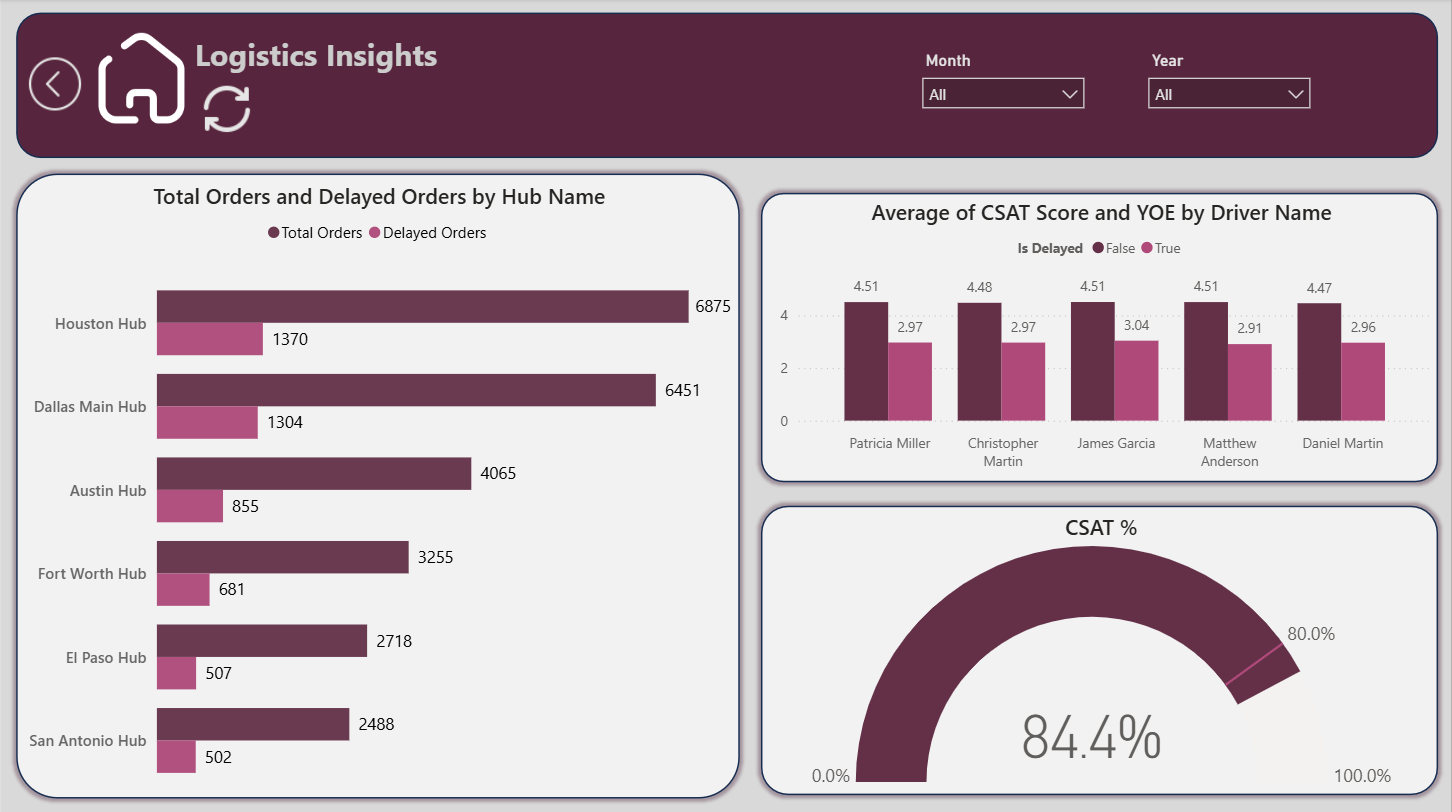

Layout of this report page (visuals, bound fields, positions):
{"tool":"powerbi","page":{"name":"Insights","canvas":[1280,720],"ordinal":6},"visuals":[{"type":"clusteredColumnChart","title":"Average of CSAT Score and YOE by Driver Name ","fields":{"Category":["Drivers.DriverName"],"Y":["Avg(Orders.Customer Satisfaction Score)"],"Series":["Orders.Is Delayed"]},"box":[674.4,174.5,595.5,248.3],"z":0},{"type":"gauge","fields":{"Y":["_Measures.CSAT %"]},"box":[674.4,452.9,595.5,248.3],"z":1000},{"type":"slicer","fields":{"Values":["Date Table.Year"]},"box":[1002.8,41.1,163,73.1],"z":2000},{"type":"slicer","fields":{"Values":["Date Table.Month"]},"box":[803.9,41.1,163,73.1],"z":3000},{"type":"clusteredBarChart","fields":{"Category":["Hubs.HubName"],"Y":["_Measures.Total Orders","_Measures.Delayed Orders"]},"box":[19.6,160.9,630.4,558.7],"z":4000},{"type":"image","box":[175,71.3,50.8,50.8],"z":5000},{"type":"textbox","box":[166.5,24.5,240.1,61.3],"z":6000},{"type":"image","box":[84,23.8,82.4,91.9],"z":7000},{"type":"image","box":[3.2,49.1,90.3,50.7],"z":8000}]}

Visuals, with their boxes in screenshot pixels (x1, y1, x2, y2), scaled from the page's 1280x720 canvas onto the 1452x812 screenshot:
"Average of CSAT Score and YOE by Driver Name " clusteredColumnChart: (765,197,1441,477)
gauge - _Measures.CSAT %: (765,511,1441,791)
slicer - Date Table.Year: (1138,46,1322,129)
slicer - Date Table.Month: (912,46,1097,129)
clusteredBarChart - Hubs.HubName x _Measures.Total Orders: (22,181,737,811)
image: (199,80,256,138)
textbox: (189,28,461,97)
image: (95,27,189,130)
image: (4,55,106,113)
